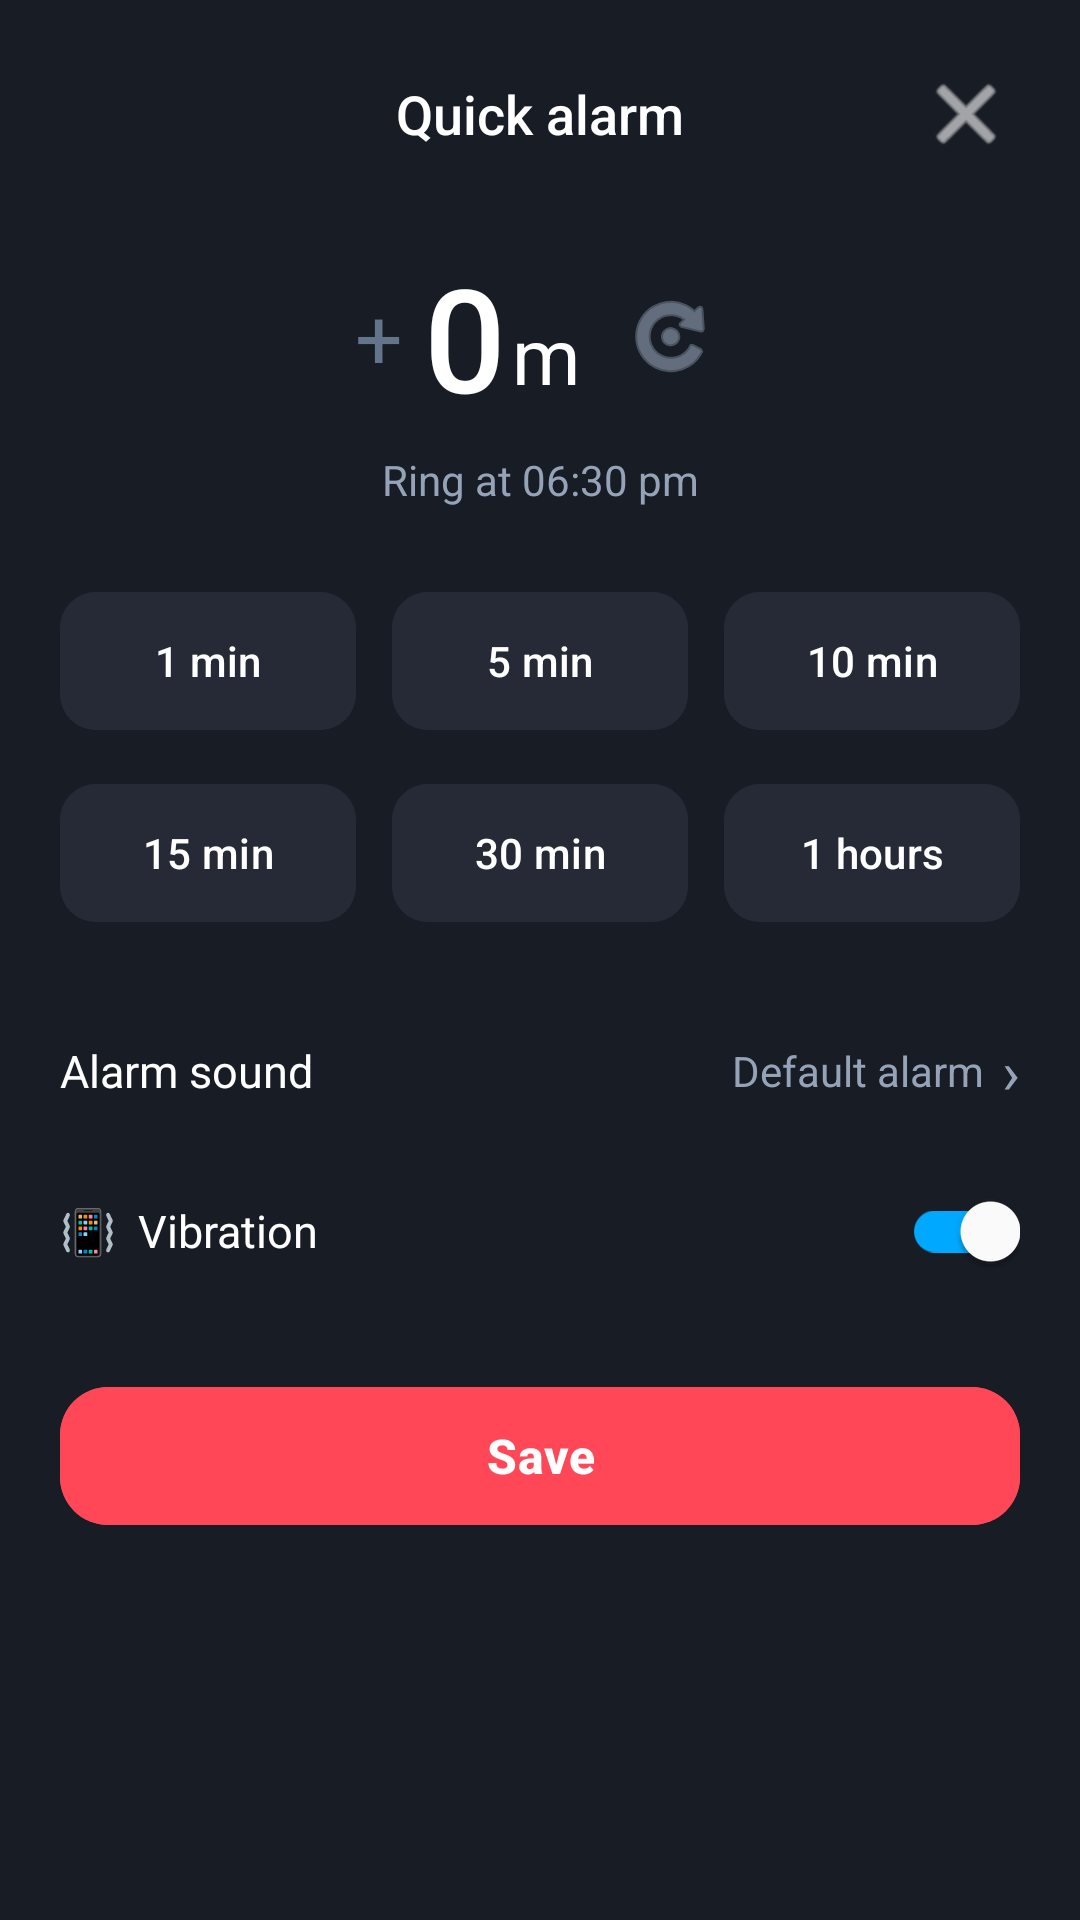

Point at icon controls on the screen. Image size 1080px×1920px, points as [x,y].
Close: [966,114]
Reset: [670,336]
